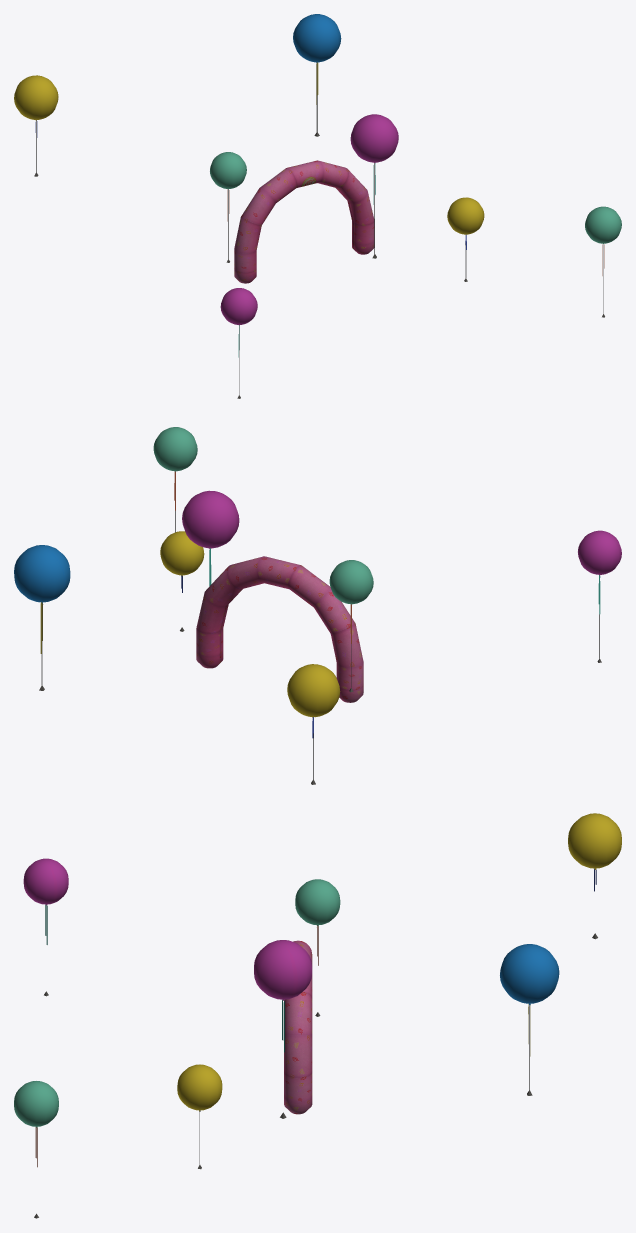
Rendered from SM_ENV_LKNVLD_Event_TorusBalloon_A.FBX.
3 views of the same model, one above another, from view 1: azimuth 30°, elevation 25°; view 2: azimuth 150°, elevation 25°; view 3: azimuth 270°, elevation 25° (orthographic). The views are drawn at different scales.
Parts seen in each view (by area): view 1: SM_ENV_LKNVLD_Event_TorusBalloon_A; view 2: SM_ENV_LKNVLD_Event_TorusBalloon_A; view 3: SM_ENV_LKNVLD_Event_TorusBalloon_A.
Part boxes in pixels (x1,y1,x2,y2): SM_ENV_LKNVLD_Event_TorusBalloon_A: [14, 14, 621, 398]; SM_ENV_LKNVLD_Event_TorusBalloon_A: [14, 427, 621, 784]; SM_ENV_LKNVLD_Event_TorusBalloon_A: [14, 813, 621, 1218].
Size of the model in its own units: 5183 by 2222 by 5616.
